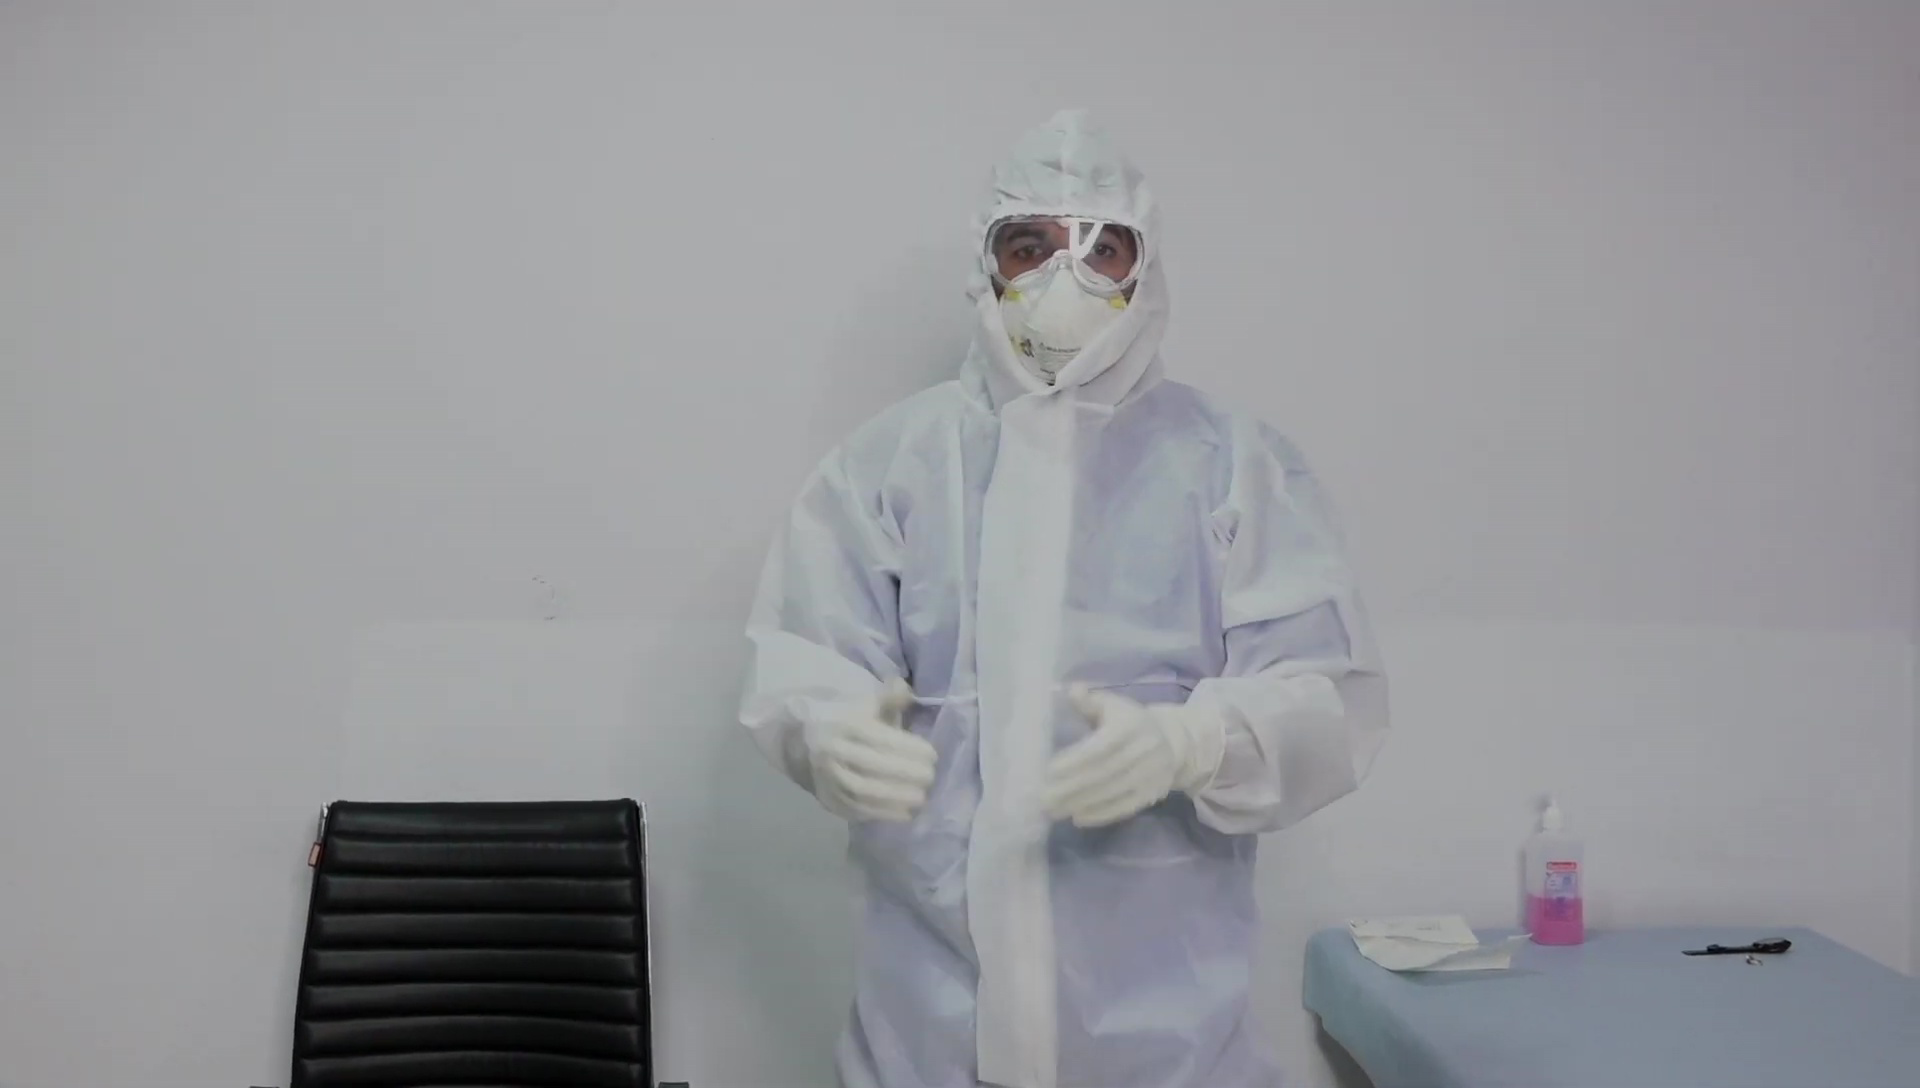Coverall: (734, 105, 1391, 1086)
Gloves: (1030, 681, 1193, 833), (805, 678, 941, 830)
Goggles: (980, 207, 1150, 298)
with_mask: (996, 244, 1122, 390)
